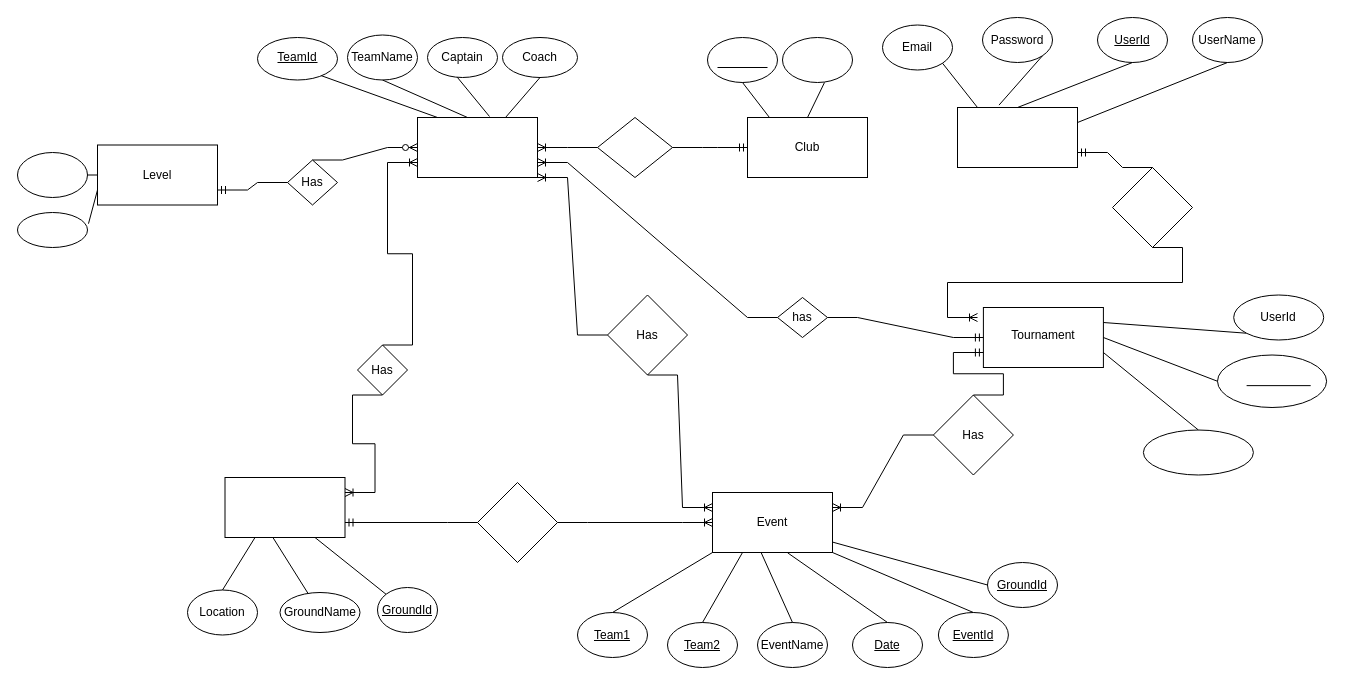
This 1345x685 diagram has some shape labels left out. The centre of each missing label's shape, as x and y in pixels:
"Belong" belongs at point (634, 147).
"ClubId" belongs at point (742, 59).
"ClubName" belongs at point (817, 59).
"CreatedBy" belongs at point (1152, 207).
"Ground" belongs at point (284, 507).
"Held" belongs at point (517, 522).
"LevelId" belongs at point (52, 175).
"LevelName" belongs at point (52, 230).
"Team" belongs at point (477, 147).
"TournamentId" belongs at point (1271, 381).
"TournamentName" belongs at point (1197, 452).
"User" belongs at point (1017, 137).
